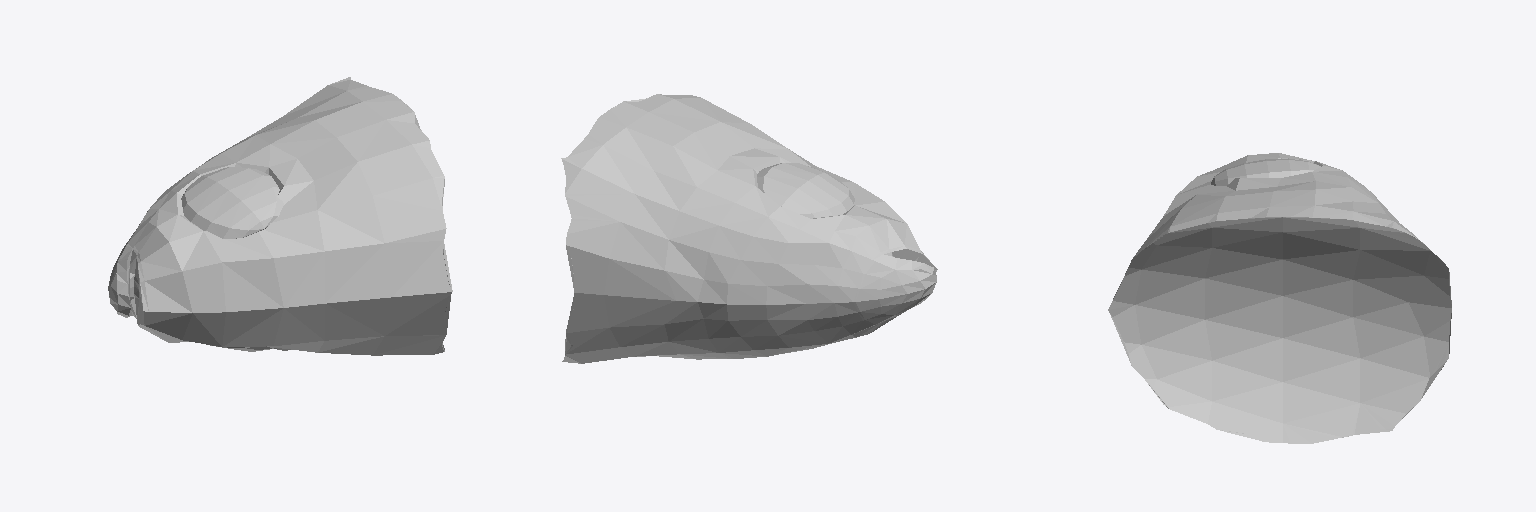
The picture shows the model from 3 angles: view 1: azimuth 30°, elevation 25°; view 2: azimuth 150°, elevation 25°; view 3: azimuth 270°, elevation 25°; orthographic projection.
Parts seen in each view (by area): view 1: Fish, Fish.002; view 2: Fish, Fish.002; view 3: Fish, Fish.002.
Boxes of the visible parts, box(x1,y1,x2,y2) form: Fish: box(108, 77, 452, 355); Fish.002: box(181, 167, 283, 238); Fish: box(561, 94, 937, 363); Fish.002: box(757, 163, 854, 218); Fish: box(1108, 153, 1451, 443); Fish.002: box(1211, 159, 1320, 185).
Size of the model in its own units: 0.0025 by 0.0018 by 0.0025.